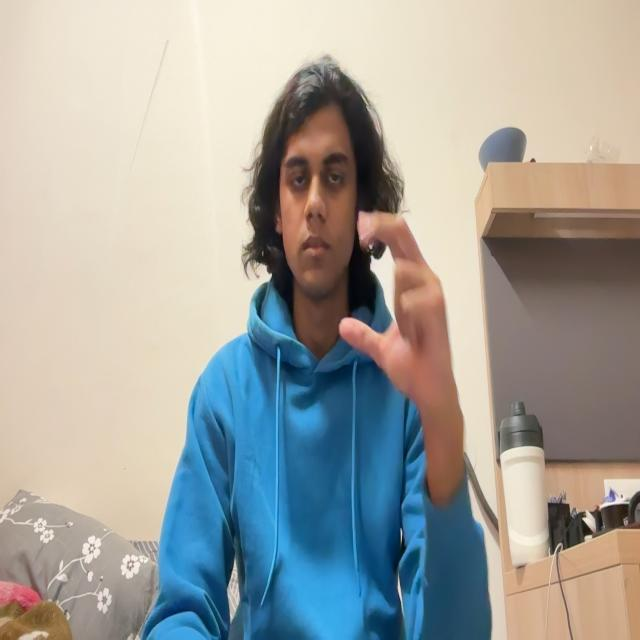No: (335, 199, 475, 401)
